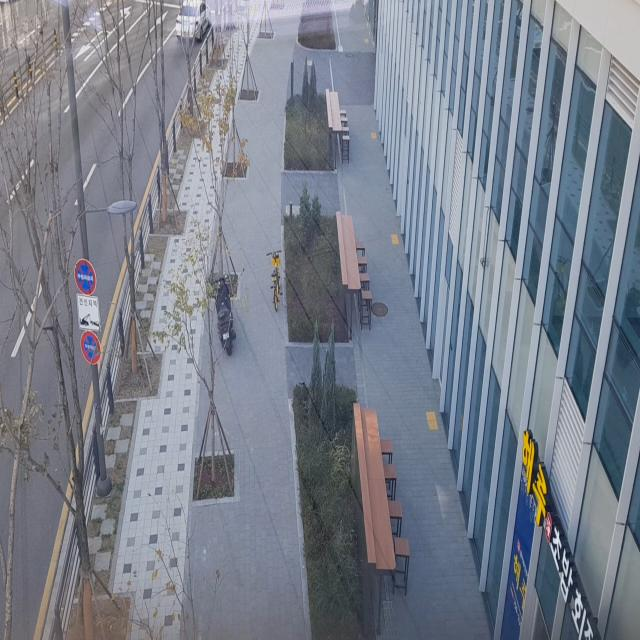Car: (170, 0, 220, 48)
